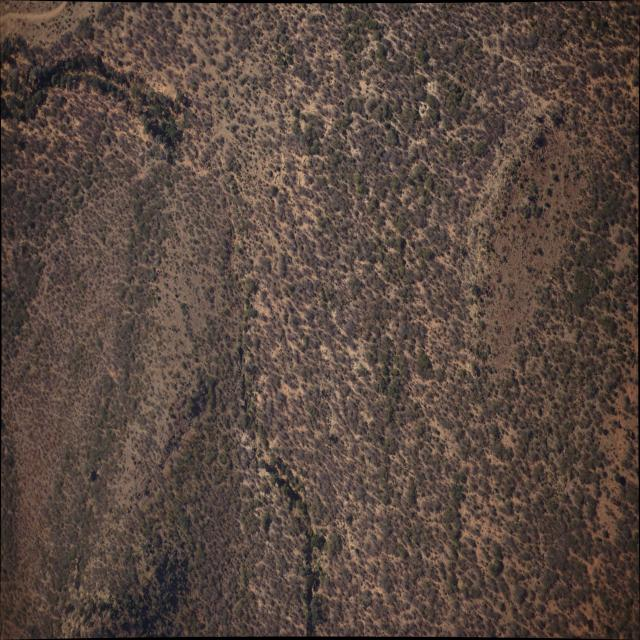elephant: (577, 42, 583, 48), (574, 59, 579, 64), (363, 113, 367, 119), (376, 83, 382, 87), (337, 100, 342, 104), (393, 75, 398, 79), (384, 78, 388, 82), (364, 89, 368, 93), (399, 92, 403, 96), (381, 80, 384, 85), (364, 81, 368, 84), (378, 80, 382, 82)
